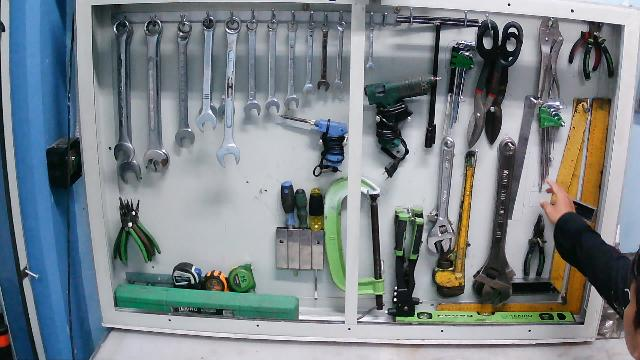tang_kombinasi: (521, 210, 550, 283)
